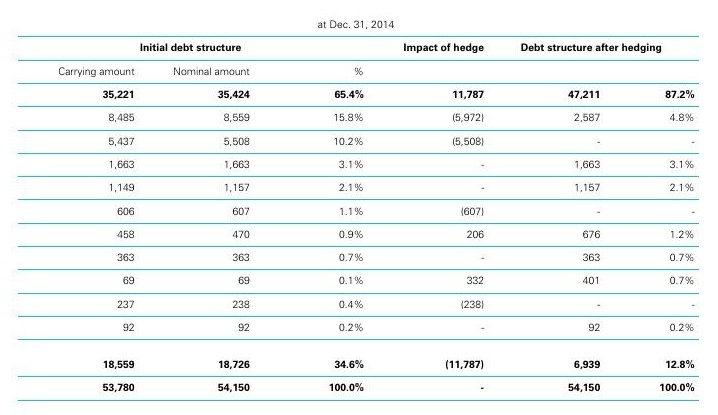table: (0, 0, 718, 415)
